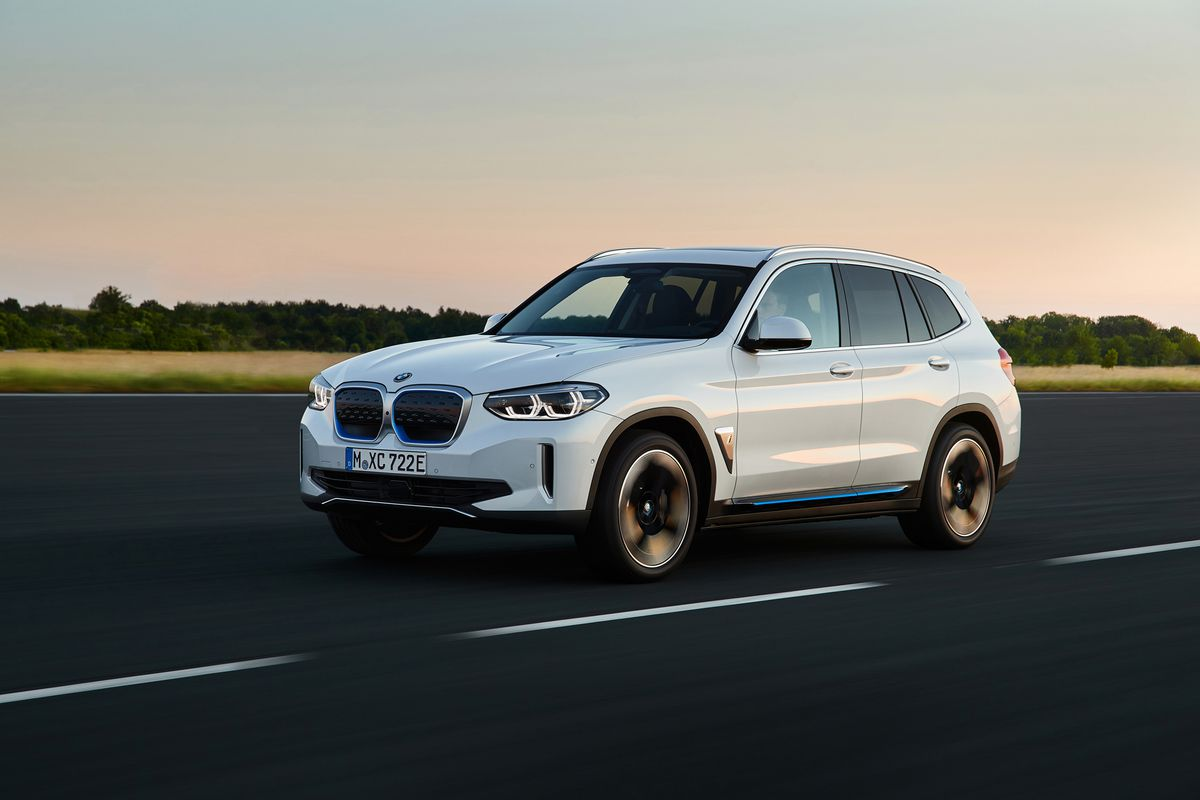car: (297, 245, 1021, 585)
